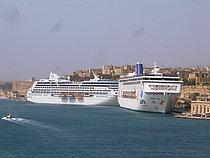Ship: (21, 72, 132, 112), (118, 61, 189, 119)
